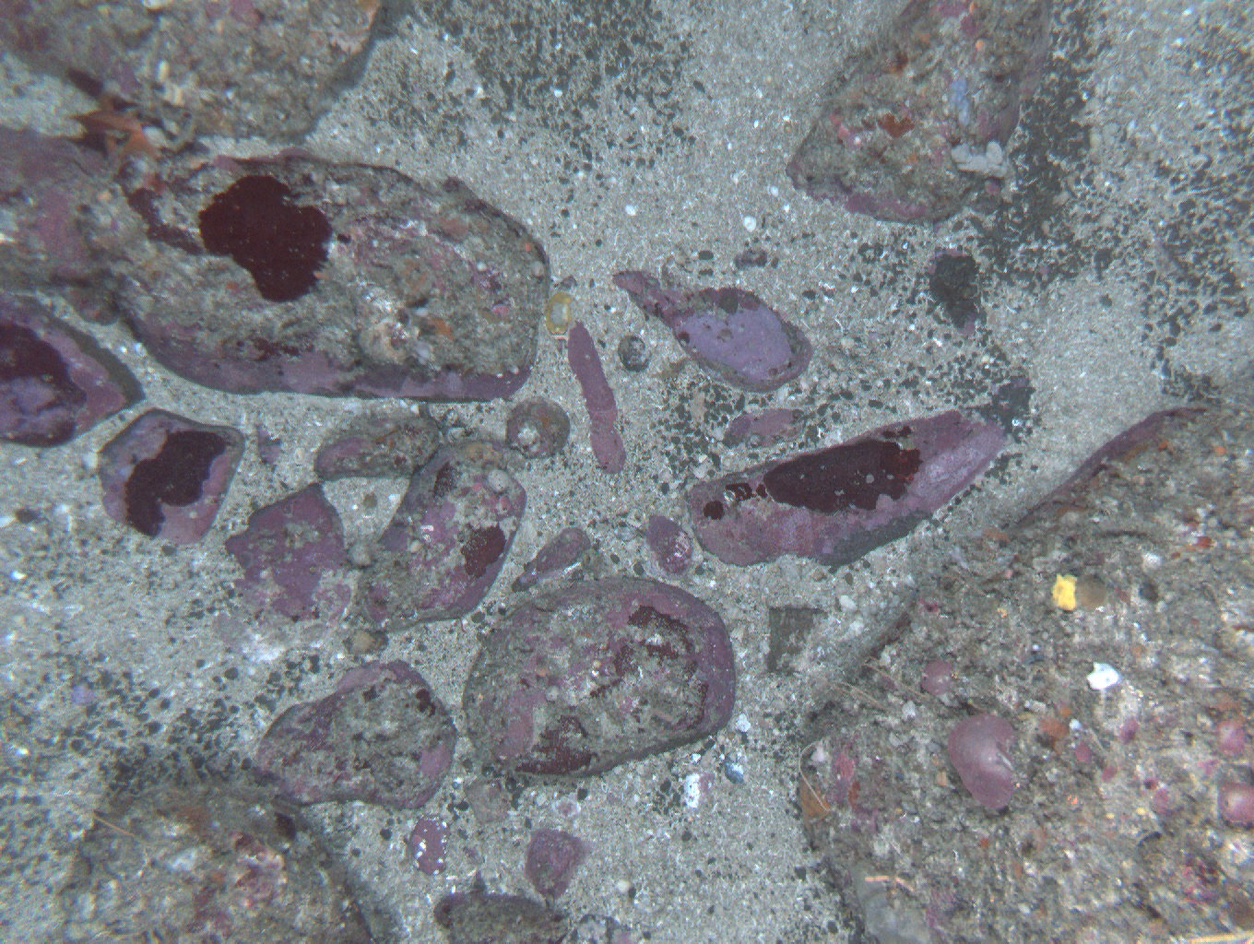Brachionichthyidae: (70, 90, 160, 160)
